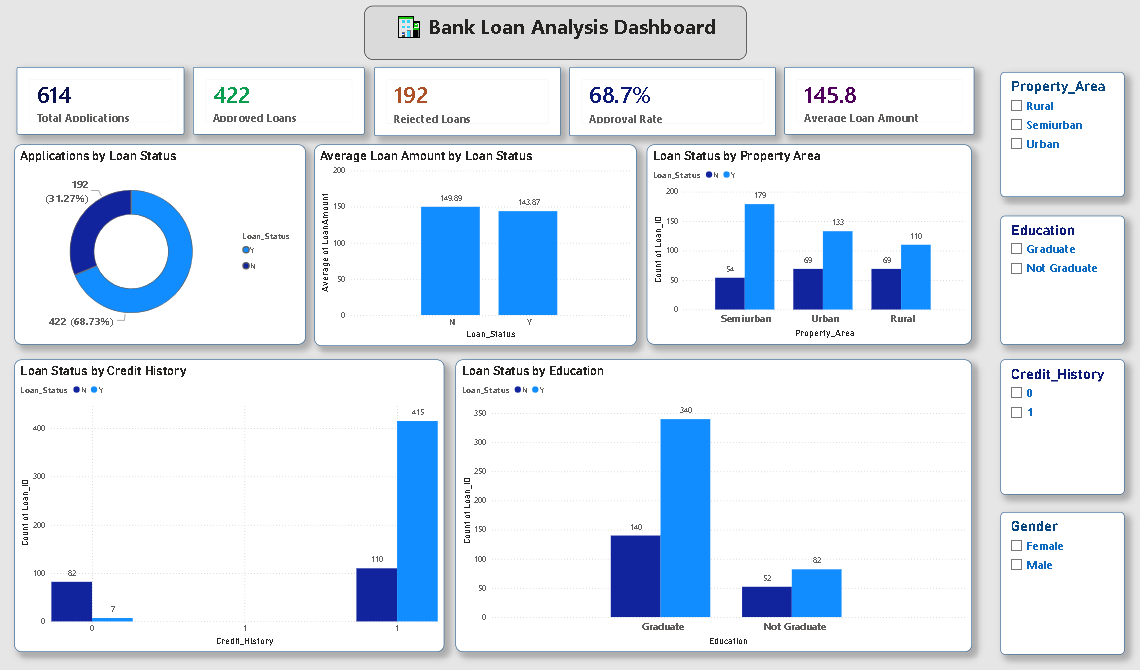

Layout of this report page (visuals, bound fields, positions):
{"tool":"powerbi","page":{"name":"Page 1","canvas":[1851,1080],"ordinal":0},"visuals":[{"type":"cardVisual","fields":{"Data":["Measure_KPI.Total Applications"]},"box":[45.2,111.2,268,108],"z":0},{"type":"cardVisual","fields":{"Data":["Measure_KPI.Approved Loans"]},"box":[327.2,111.2,274,108],"z":1},{"type":"cardVisual","fields":{"Data":["Measure_KPI.Rejected Loans"]},"box":[617.2,111.2,298,110],"z":2},{"type":"cardVisual","fields":{"Data":["Measure_KPI.Approval Rate"]},"box":[929.2,111.2,330,110],"z":3},{"type":"cardVisual","fields":{"Data":["Measure_KPI.Average Loan Amount"]},"box":[1273.2,111.2,304,108],"z":4},{"type":"donutChart","title":"Applications by Loan_Status","fields":{"Category":["Bank_Loan_Cleaned.Loan_Status"],"Y":["Measure_KPI.Total Applications"]},"box":[42,236,466,320],"z":5},{"type":"clusteredColumnChart","title":"Loan_ID by Credit_History and Loan_Status","fields":{"Series":["Bank_Loan_Cleaned.Loan_Status"],"Y":["CountNonNull(Bank_Loan_Cleaned.Loan_ID)"],"Category":["Bank_Loan_Cleaned.Credit_History"]},"box":[42,580,688,468],"z":6},{"type":"columnChart","title":"Loan_Amount by Loan_Status","fields":{"Y":["Avg(Bank_Loan_Cleaned.LoanAmount)"],"Category":["Bank_Loan_Cleaned.Loan_Status"]},"box":[522,236,516,322],"z":7},{"type":"clusteredColumnChart","title":"Education by Loan_Status","fields":{"Series":["Bank_Loan_Cleaned.Loan_Status"],"Y":["CountNonNull(Bank_Loan_Cleaned.Loan_ID)"],"Category":["Bank_Loan_Cleaned.Education"]},"box":[748,580,826,468],"z":8},{"type":"clusteredColumnChart","title":" Property_Area by Loan_Status","fields":{"Category":["Bank_Loan_Cleaned.Property_Area"],"Y":["CountNonNull(Bank_Loan_Cleaned.Loan_ID)"],"Series":["Bank_Loan_Cleaned.Loan_Status"]},"box":[1054,236,520,320],"z":9},{"type":"slicer","fields":{"Values":["Bank_Loan_Cleaned.Gender"]},"box":[1619.2,823.2,198,228],"z":10},{"type":"slicer","fields":{"Values":["Bank_Loan_Cleaned.Education"]},"box":[1619.2,395.2,198,184],"z":11},{"type":"slicer","fields":{"Values":["Bank_Loan_Cleaned.Property_Area"]},"box":[1619.2,119.2,198,252],"z":12},{"type":"slicer","fields":{"Values":["Bank_Loan_Cleaned.Credit_History"]},"box":[1619.2,601.2,198,194],"z":13},{"type":"textbox","box":[602,14,612,86],"z":15}]}

Visuals, with their boxes in screenshot pixels (x1, y1, x2, y2), scaled from the page's 1851x1080 canvas onto the 1140x670 screenshot:
cardVisual - Measure_KPI.Total Applications: [x1=28, y1=69, x2=193, y2=136]
cardVisual - Measure_KPI.Approved Loans: [x1=202, y1=69, x2=370, y2=136]
cardVisual - Measure_KPI.Rejected Loans: [x1=380, y1=69, x2=564, y2=137]
cardVisual - Measure_KPI.Approval Rate: [x1=572, y1=69, x2=776, y2=137]
cardVisual - Measure_KPI.Average Loan Amount: [x1=784, y1=69, x2=971, y2=136]
"Applications by Loan_Status" donutChart: [x1=26, y1=146, x2=313, y2=345]
"Loan_ID by Credit_History and Loan_Status" clusteredColumnChart: [x1=26, y1=360, x2=450, y2=650]
"Loan_Amount by Loan_Status" columnChart: [x1=321, y1=146, x2=639, y2=346]
"Education by Loan_Status" clusteredColumnChart: [x1=461, y1=360, x2=969, y2=650]
" Property_Area by Loan_Status" clusteredColumnChart: [x1=649, y1=146, x2=969, y2=345]
slicer - Bank_Loan_Cleaned.Gender: [x1=997, y1=511, x2=1119, y2=652]
slicer - Bank_Loan_Cleaned.Education: [x1=997, y1=245, x2=1119, y2=359]
slicer - Bank_Loan_Cleaned.Property_Area: [x1=997, y1=74, x2=1119, y2=230]
slicer - Bank_Loan_Cleaned.Credit_History: [x1=997, y1=373, x2=1119, y2=493]
textbox: [x1=371, y1=9, x2=748, y2=62]
